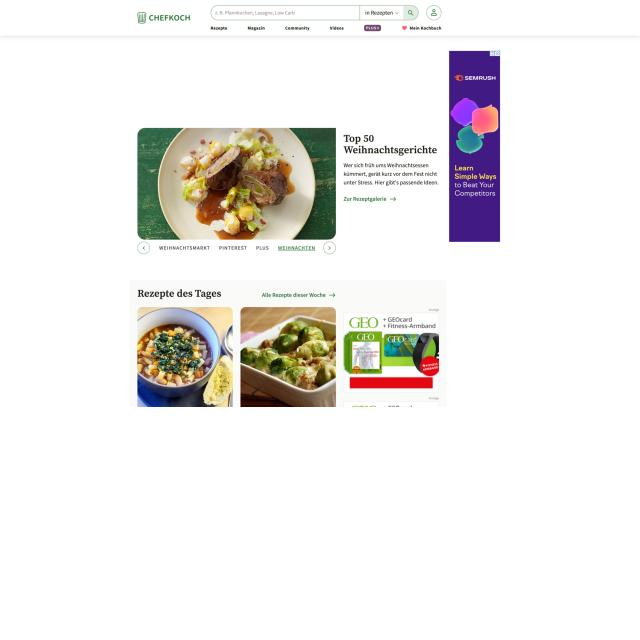CheckBox: (259, 289, 336, 300), (342, 196, 398, 203), (425, 4, 444, 20), (403, 4, 419, 20)
CheckedTextView: (210, 4, 418, 20)
ImageView: (448, 50, 501, 242), (345, 308, 440, 400)
Switch: (136, 240, 337, 256)
alert: (364, 9, 401, 17)
bag: (0, 0, 640, 36)
breadcrumbs: (344, 132, 442, 158), (136, 287, 222, 302)
copy: (137, 127, 336, 240), (136, 307, 234, 408), (240, 306, 336, 407)
date picker: (134, 6, 193, 30)
decoration: (208, 23, 349, 34)
footer: (214, 9, 298, 18)
